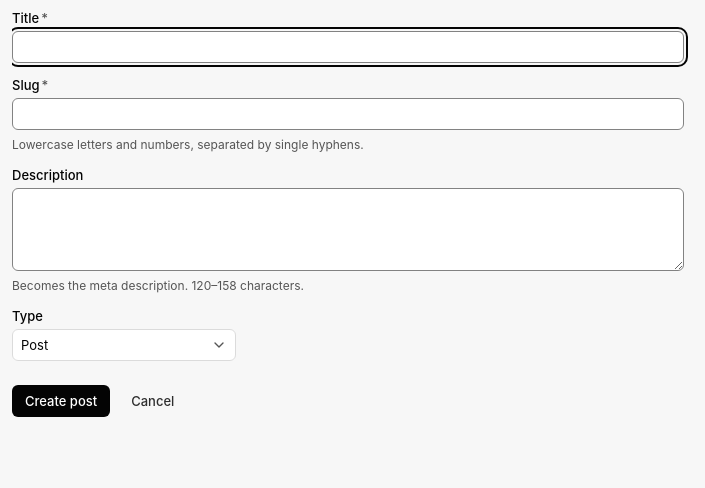
Test: NewDocumentForm › after the server rejects the submission › surfaces a failure that belongs to no single field as an alert
Type "My post" into the field labelled "Title*".
click(348, 47); type("My post")  # box x1=12 y1=31 x2=684 y2=63
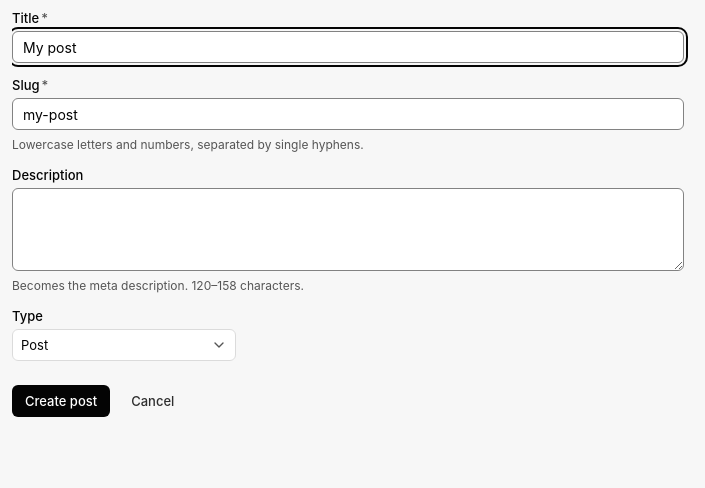
Click the button "Create post".
click(61, 401)  # box x1=12 y1=385 x2=110 y2=417
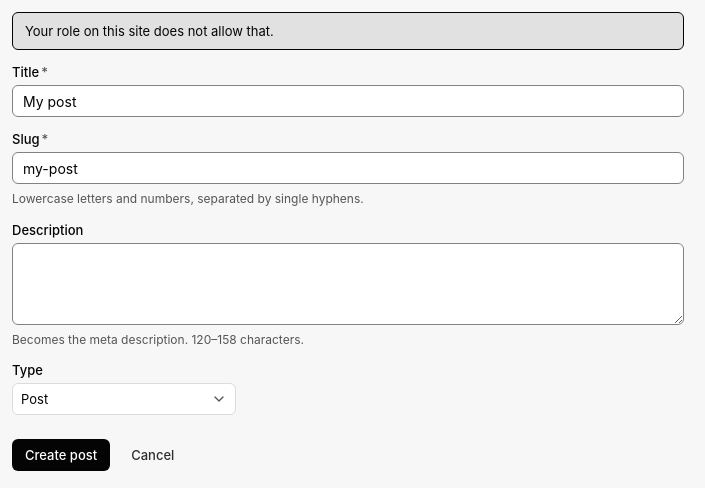
Expected: the message reads "Your role on this site does not allow that.", x1=25 y1=23 x2=274 y2=39
